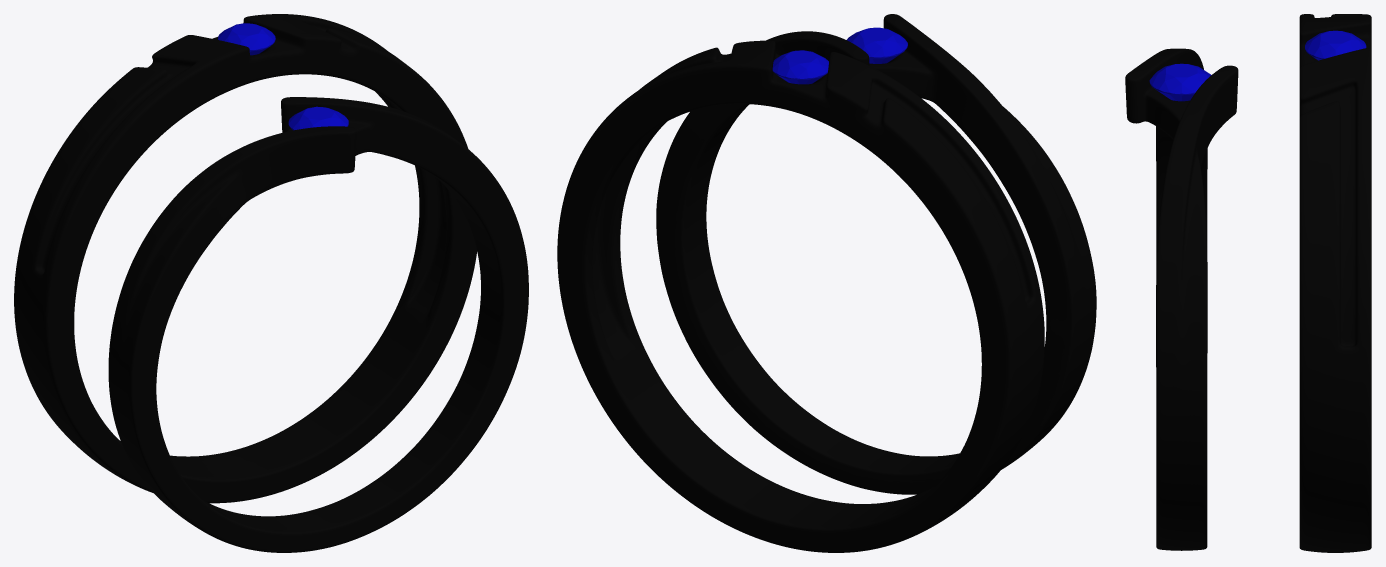
The picture shows the model from 3 angles, left to right: view 1: azimuth 30°, elevation 25°; view 2: azimuth 150°, elevation 25°; view 3: azimuth 270°, elevation 25°; orthographic projection. The views are drawn at different scales.
Visible parts, largest first — view 1: Significant_RG.3dm, 01_STL, RD_2.4, G_2.4; view 2: Significant_RG.3dm, 01_STL, RD_2.4, G_2.4; view 3: Significant_RG.3dm, 01_STL, G_2.4, RD_2.4.
Boxes of the visible parts, x1=… form: Significant_RG.3dm: x1=14, y1=14, x2=477, y2=503; 01_STL: x1=108, y1=97, x2=528, y2=552; RD_2.4: x1=218, y1=23, x2=275, y2=55; G_2.4: x1=288, y1=106, x2=348, y2=130; Significant_RG.3dm: x1=557, y1=40, x2=1044, y2=552; 01_STL: x1=656, y1=14, x2=1096, y2=494; RD_2.4: x1=772, y1=50, x2=828, y2=84; G_2.4: x1=847, y1=27, x2=907, y2=63; Significant_RG.3dm: x1=1299, y1=14, x2=1371, y2=552; 01_STL: x1=1125, y1=48, x2=1238, y2=550; G_2.4: x1=1149, y1=63, x2=1211, y2=101; RD_2.4: x1=1305, y1=30, x2=1366, y2=60.
Bounding box in the file's own units: 2.69 × 2.7 × 1.23.
